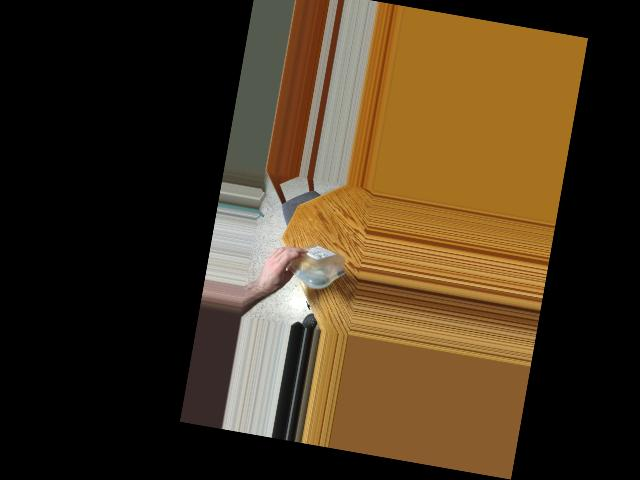cheese: (276, 240, 345, 287)
